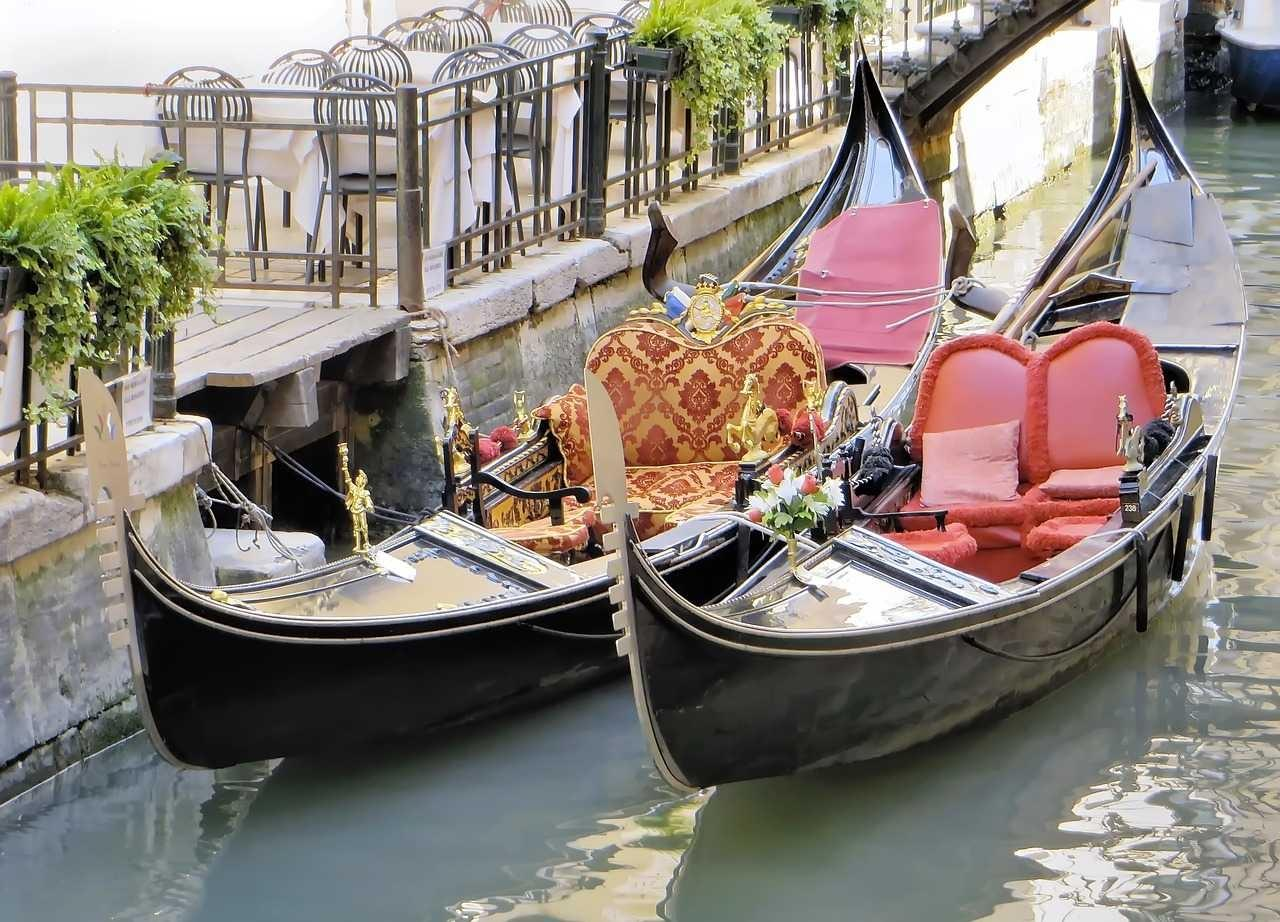kayak: (599, 0, 1251, 794), (122, 482, 621, 645), (1214, 0, 1279, 113)
